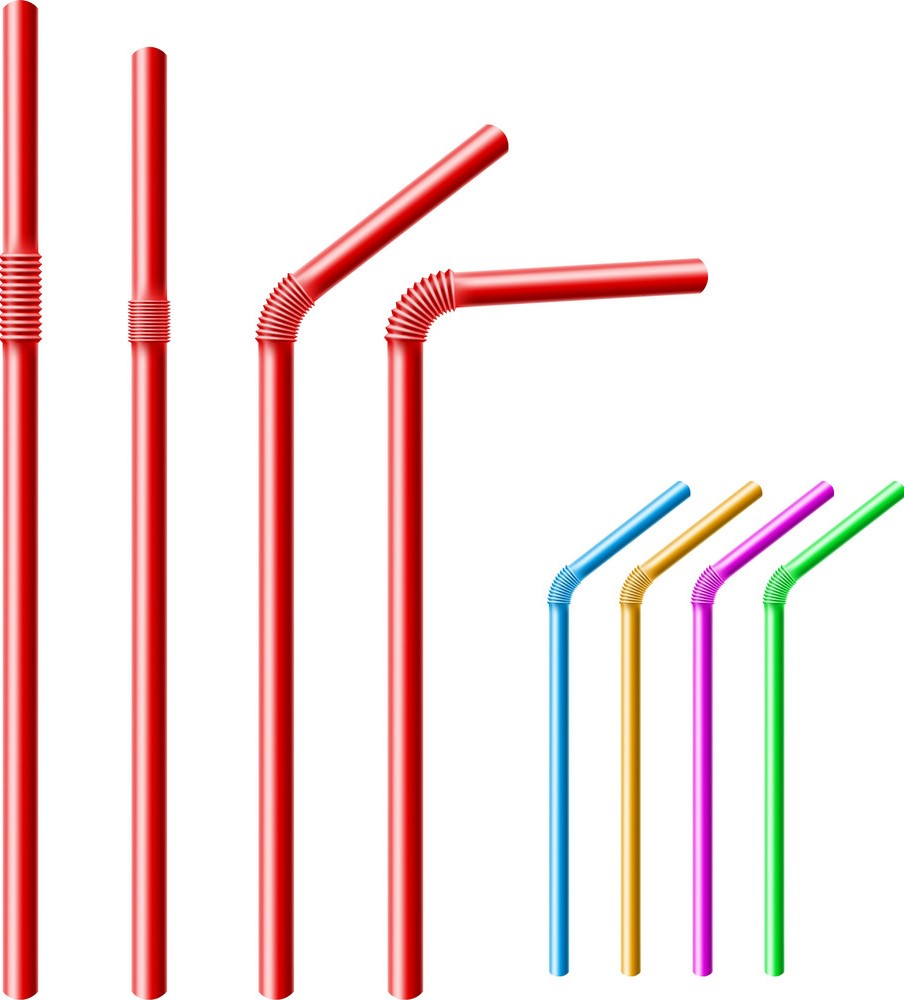Drinking Straw: (385, 253, 712, 1000), (122, 30, 175, 1000)
